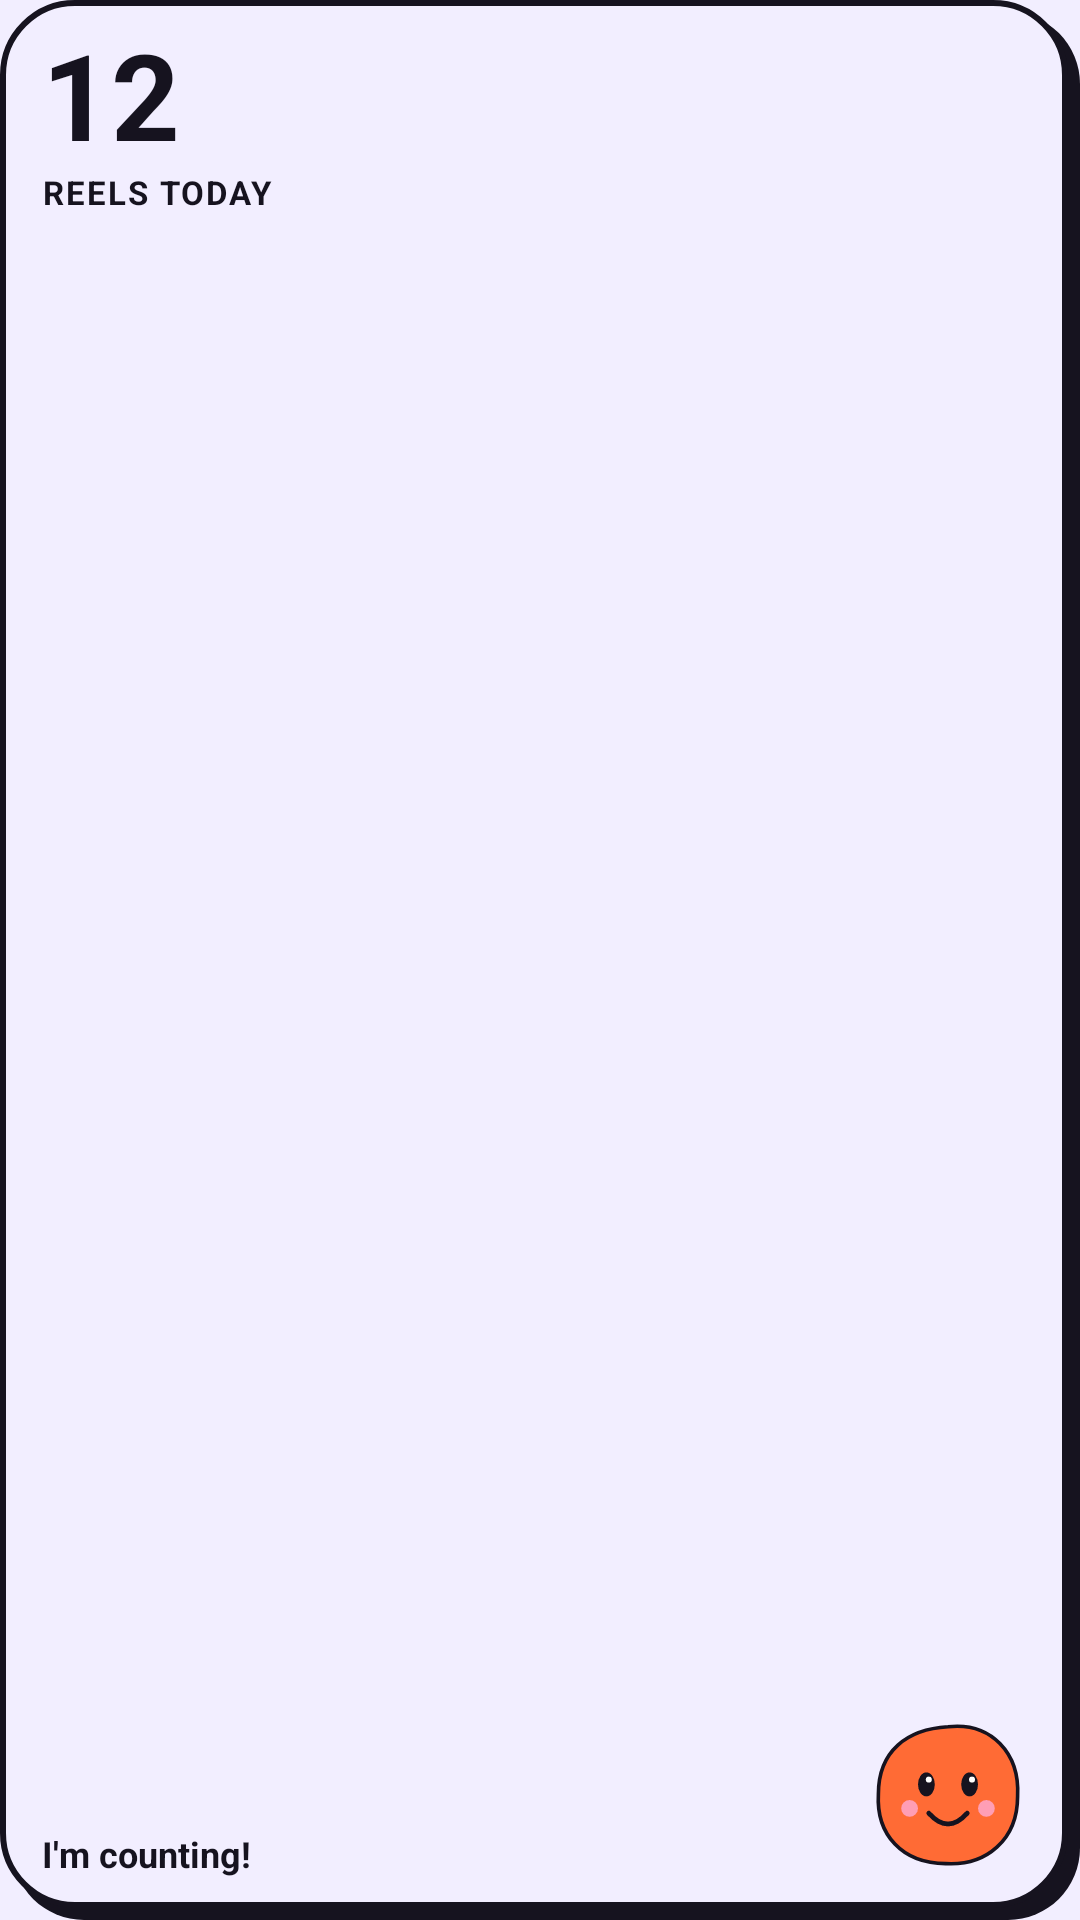

Where icons sit on this 1080x1920 app screen, as (x1,y1,x2,y2):
Mascot: (876,1724,1020,1866)
